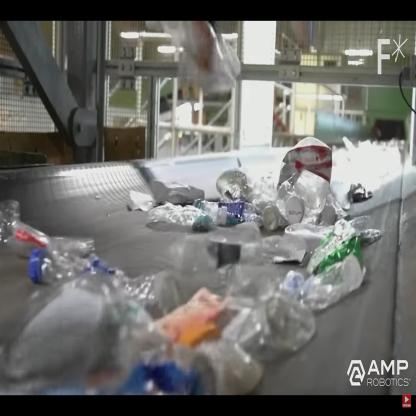Glass Bottle: (27, 244, 125, 292), (282, 256, 364, 310), (276, 166, 328, 228), (310, 218, 365, 274), (148, 199, 227, 234), (4, 215, 62, 254), (192, 196, 264, 227), (215, 169, 250, 197)
